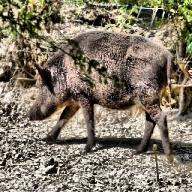boar: (27, 28, 176, 164)
